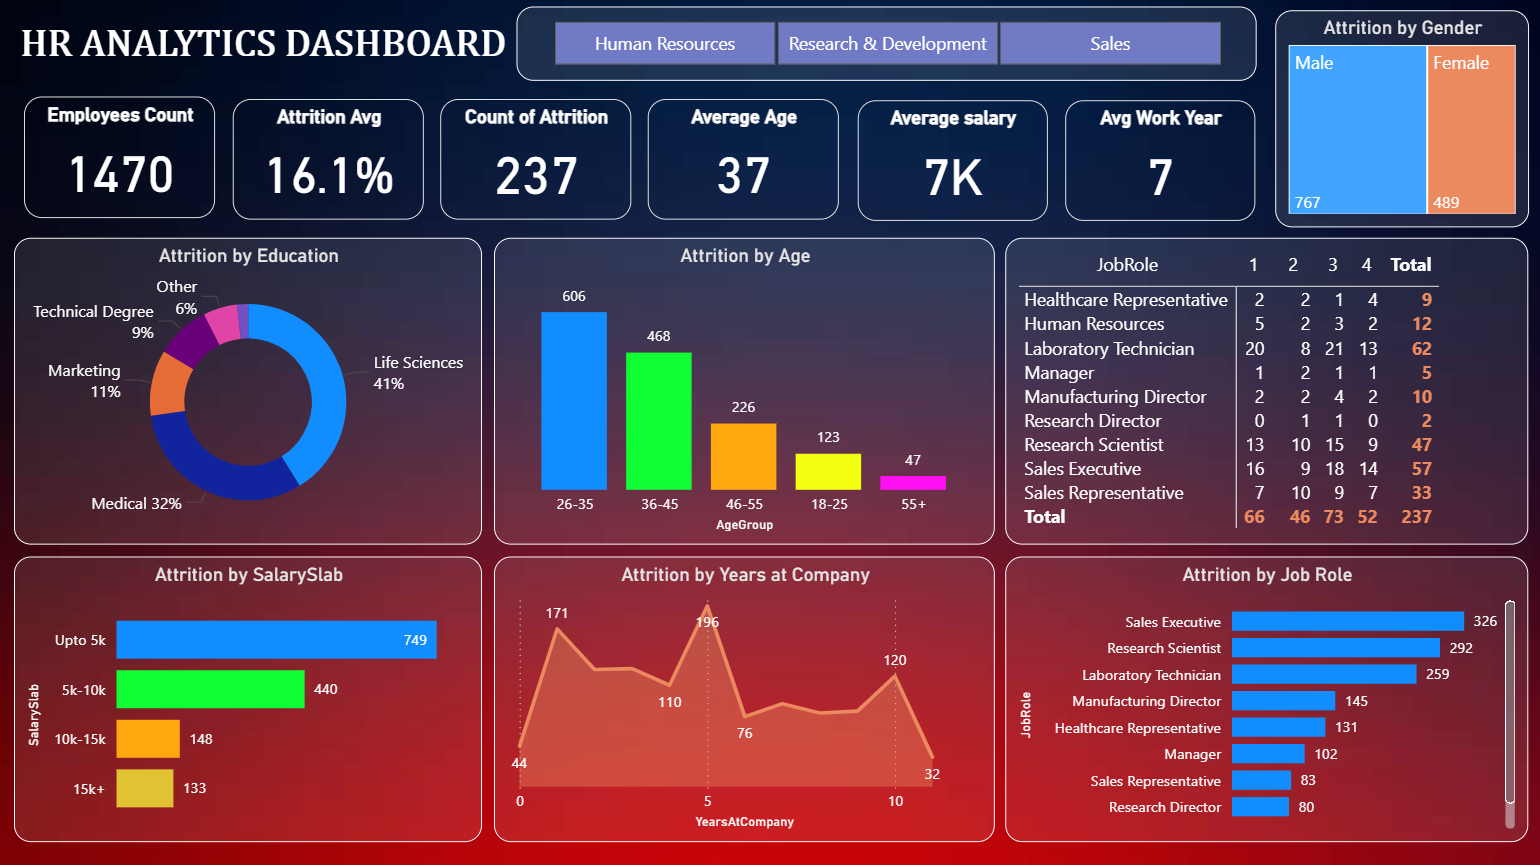

What the dashboard file says about the page in this screenshot:
{"tool":"powerbi","page":{"name":"Page 1","canvas":[1280,720],"ordinal":0},"visuals":[{"type":"card","title":" Employees Count ","fields":{"Values":["CountNonNull(Sheet1.EmpID)"]},"box":[20.4,80.5,158.5,100.9],"z":0},{"type":"card","title":"Count of Attrition ","fields":{"Values":["Sum(Sheet1.AttritionCount)"]},"box":[366.2,82.9,158.5,99.7],"z":1000},{"type":"card","title":"Attrition Avg ","fields":{"Values":["Sheet1.Attiritionrate"]},"box":[193.3,82.9,158.5,99.7],"z":2000},{"type":"card","title":"Average Age ","fields":{"Values":["Avg(Sheet1.Age)"]},"box":[537.9,82.9,158.5,99.7],"z":3000},{"type":"card","title":"Average salary","fields":{"Values":["Avg(Sheet1.MonthlyIncome)"]},"box":[712,84.1,157.3,99.7],"z":4000},{"type":"card","title":"Avg Work Year","fields":{"Values":["Avg(Sheet1.YearsAtCompany)"]},"box":[883.8,84.1,157.3,99.7],"z":5000},{"type":"donutChart","title":"Attrition by Education","fields":{"Category":["Sheet1.EducationField"],"Y":["CountNonNull(Sheet1.Attrition)"]},"box":[12,198.1,387.8,254.6],"z":6000},{"type":"columnChart","title":"Attrition by Age","fields":{"Category":["Sheet1.AgeGroup"],"Y":["CountNonNull(Sheet1.Attrition)"]},"box":[410.7,198.1,415.5,254.6],"z":7000},{"type":"pivotTable","fields":{"Rows":["Sheet1.JobRole"],"Columns":["Sheet1.JobSatisfaction"],"Values":["Sum(Sheet1.AttritionCount)"]},"box":[834.5,198.1,433.5,254.6],"z":8000},{"type":"barChart","title":"Attrition by SalarySlab","fields":{"Category":["Sheet1.SalarySlab"],"Y":["CountNonNull(Sheet1.Attrition)"]},"box":[12,462.3,387.8,236.5],"z":9000},{"type":"barChart","title":"Attrition by Job Role","fields":{"Y":["CountNonNull(Sheet1.Attrition)"],"Category":["Sheet1.JobRole"]},"box":[834.5,462.3,433.5,236.5],"z":10000},{"type":"areaChart","title":"Attrition by Years at Company","fields":{"Category":["Sheet1.YearsAtCompany"],"Y":["CountNonNull(Sheet1.Attrition)"]},"box":[410.7,462.3,415.5,236.5],"z":11000},{"type":"treemap","title":"Attrition by Gender","fields":{"Group":["Sheet1.Gender"],"Values":["CountNonNull(Sheet1.Attrition)"]},"box":[1057.9,9.6,210.1,180.1],"z":12000},{"type":"slicer","fields":{"Values":["Sheet1.Department"]},"box":[428.7,6,613.6,61.2],"z":13000},{"type":"textbox","box":[12,15.6,445.5,64.8],"z":14000}]}

Visuals, with their boxes in screenshot pixels (x1, y1, x2, y2), scaled from the page's 1280x720 canvas onto the 1540x865 screenshot:
" Employees Count " card: (25,97,215,218)
"Count of Attrition " card: (441,100,631,219)
"Attrition Avg " card: (233,100,423,219)
"Average Age " card: (647,100,838,219)
"Average salary" card: (857,101,1046,221)
"Avg Work Year" card: (1063,101,1253,221)
"Attrition by Education" donutChart: (14,238,481,544)
"Attrition by Age" columnChart: (494,238,994,544)
pivotTable - Sheet1.JobRole x Sheet1.JobSatisfaction: (1004,238,1526,544)
"Attrition by SalarySlab" barChart: (14,555,481,840)
"Attrition by Job Role" barChart: (1004,555,1526,840)
"Attrition by Years at Company" areaChart: (494,555,994,840)
"Attrition by Gender" treemap: (1273,12,1526,228)
slicer - Sheet1.Department: (516,7,1254,81)
textbox: (14,19,550,97)
